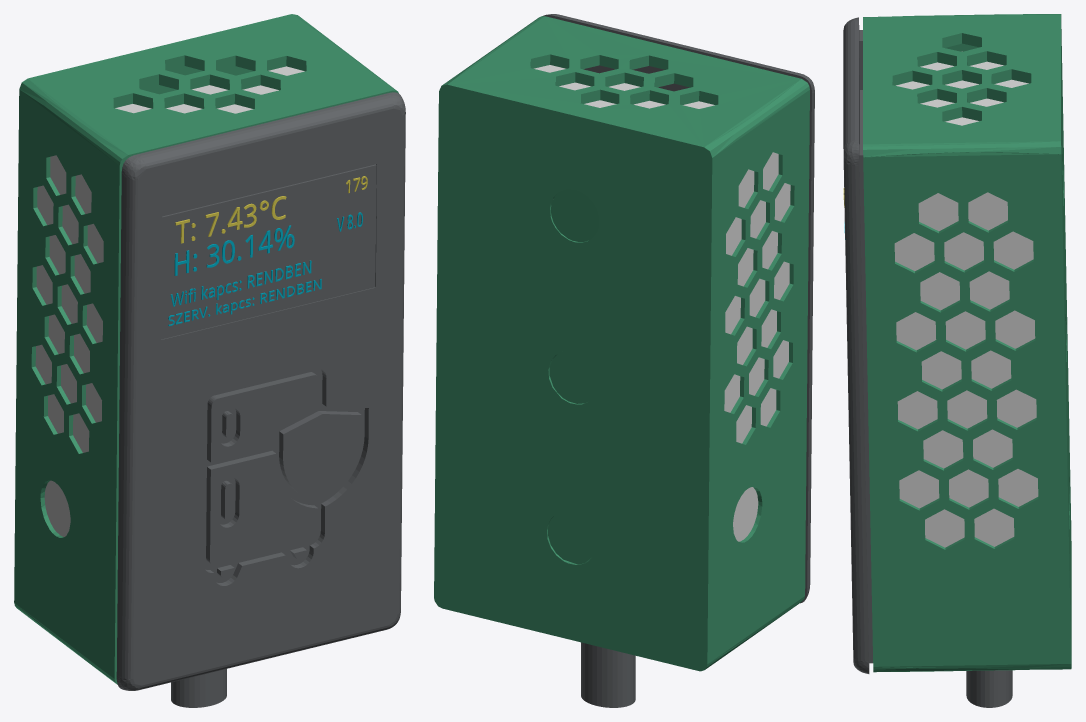
Rendered from zold_fekete.glb.
The picture shows the model from 3 angles, left to right: view 1: azimuth 30°, elevation 25°; view 2: azimuth 150°, elevation 25°; view 3: azimuth 270°, elevation 25°; orthographic projection. The views are drawn at different scales.
Parts seen in each view (by area): view 1: Mesh_Mesh_head_geo.001_lambert2SG.001; view 2: Mesh_Mesh_head_geo.001_lambert2SG.001; view 3: Mesh_Mesh_head_geo.001_lambert2SG.001.
Part boxes in pixels (<box>): Mesh_Mesh_head_geo.001_lambert2SG.001: <box>14,14,405,707</box>; Mesh_Mesh_head_geo.001_lambert2SG.001: <box>434,14,814,707</box>; Mesh_Mesh_head_geo.001_lambert2SG.001: <box>843,14,1071,707</box>.
Size of the model in its own units: 33 by 70.15 by 23.52.
